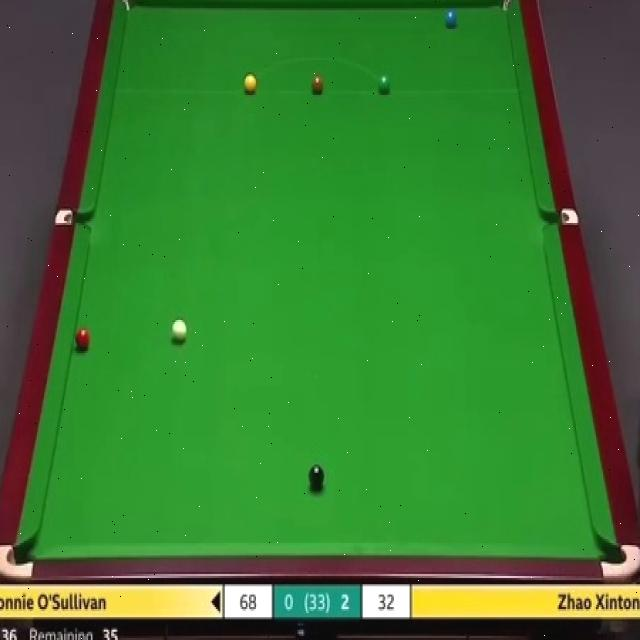black-ball: (307, 463, 325, 491)
blue-ball: (444, 9, 457, 27)
brown-ball: (310, 72, 325, 94)
green-ball: (375, 74, 391, 96)
red-ball: (75, 328, 92, 352)
white-ball: (171, 316, 188, 344)
yellow-ball: (243, 72, 257, 94)
